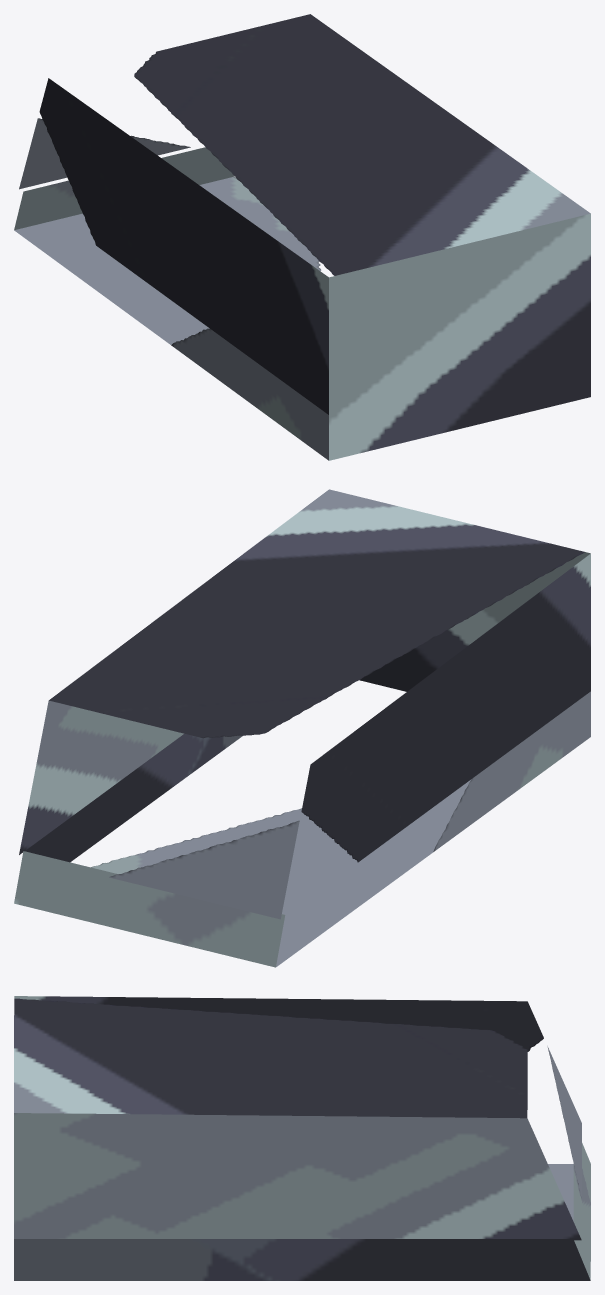
File: ss8_carport_ad_lh.obj
3 views of the same model, one above another, from view 1: azimuth 30°, elevation 25°; view 2: azimuth 150°, elevation 25°; view 3: azimuth 270°, elevation 25° (orthographic). The views are drawn at different scales.
Visible parts, largest first — view 1: cube_selection_selection_selection_selection_selection_selection; view 2: cube_selection_selection_selection_selection_selection_selection; view 3: cube_selection_selection_selection_selection_selection_selection.
Boxes of the visible parts, <box> form: cube_selection_selection_selection_selection_selection_selection: <box>14,14,590,460</box>; cube_selection_selection_selection_selection_selection_selection: <box>14,489,590,967</box>; cube_selection_selection_selection_selection_selection_selection: <box>14,996,590,1280</box>.
Bounding box in the file's own units: 0.7502 × 0.5022 × 1.56.
